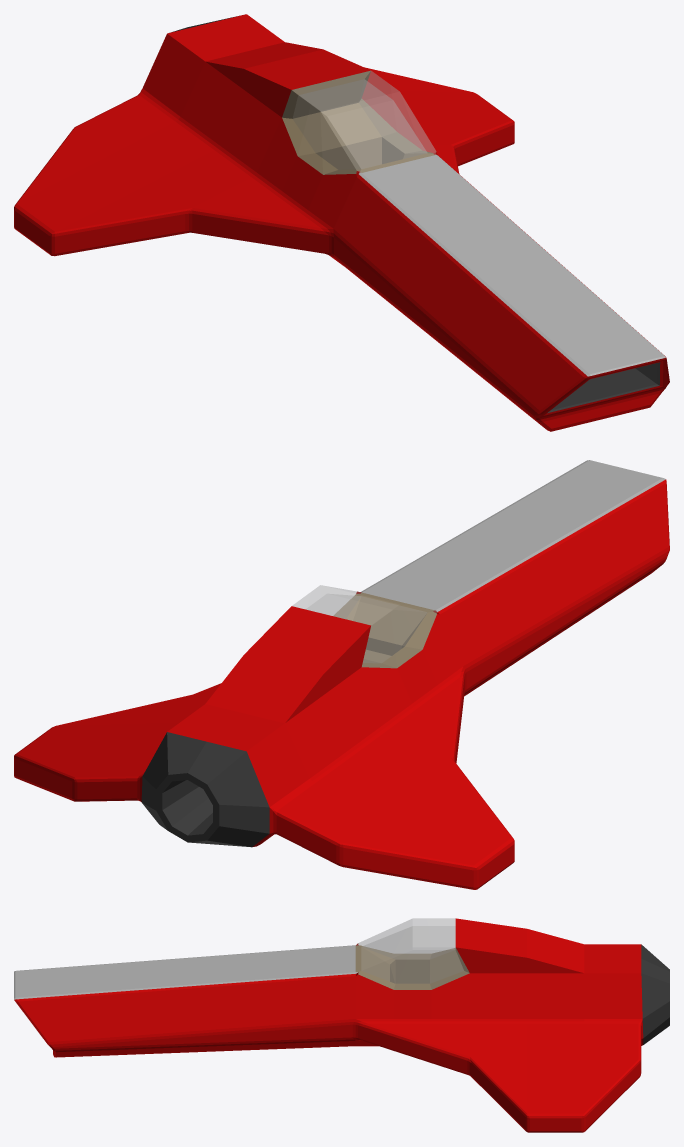
File: HovershipClassic.fbx
The picture shows the model from 3 angles, top to bottom: view 1: azimuth 30°, elevation 25°; view 2: azimuth 150°, elevation 25°; view 3: azimuth 270°, elevation 25°; orthographic projection. The views are drawn at different scales.
Parts seen in each view (by area): view 1: HovershipClassic; view 2: HovershipClassic; view 3: HovershipClassic.
Boxes of the visible parts, box(x1,y1,x2,y2) form: HovershipClassic: box(14, 14, 669, 431); HovershipClassic: box(14, 460, 669, 889); HovershipClassic: box(14, 918, 669, 1132).
Bounding box in the file's own units: 700 × 224 × 1148.
